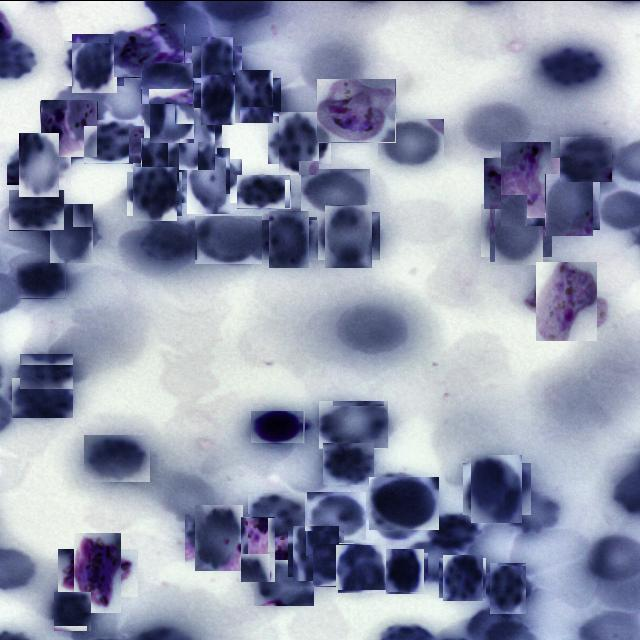gametocyte: (66, 540, 130, 604)
leukocyte: (250, 410, 304, 443)
red blood cell: (486, 198, 548, 260), (369, 474, 439, 528), (467, 458, 527, 518), (190, 508, 248, 566), (319, 400, 389, 448), (195, 215, 263, 264), (301, 168, 370, 216), (378, 118, 444, 168), (162, 110, 218, 166), (540, 176, 596, 232), (84, 434, 150, 481), (321, 207, 376, 263), (182, 152, 236, 208), (539, 44, 606, 88), (144, 84, 198, 138), (307, 491, 366, 539), (254, 559, 314, 605), (274, 116, 326, 168), (68, 36, 120, 88), (46, 206, 98, 258), (13, 138, 65, 190), (248, 492, 305, 539), (84, 119, 144, 163), (290, 528, 341, 578), (130, 168, 180, 218), (264, 214, 313, 264), (12, 377, 73, 417), (560, 134, 612, 180), (336, 543, 384, 591), (9, 189, 65, 230), (141, 62, 194, 104), (136, 140, 182, 187), (312, 543, 362, 586), (323, 442, 374, 484), (231, 73, 277, 119), (430, 512, 481, 552), (20, 353, 74, 389), (486, 566, 530, 610), (440, 555, 484, 599), (237, 174, 291, 208), (196, 78, 239, 120), (384, 550, 426, 592), (17, 262, 66, 298), (196, 40, 238, 81), (54, 591, 92, 631)
trophozoite: (317, 78, 396, 142), (532, 264, 602, 336), (492, 148, 560, 216), (114, 23, 185, 77), (41, 100, 98, 156), (232, 524, 282, 574)
